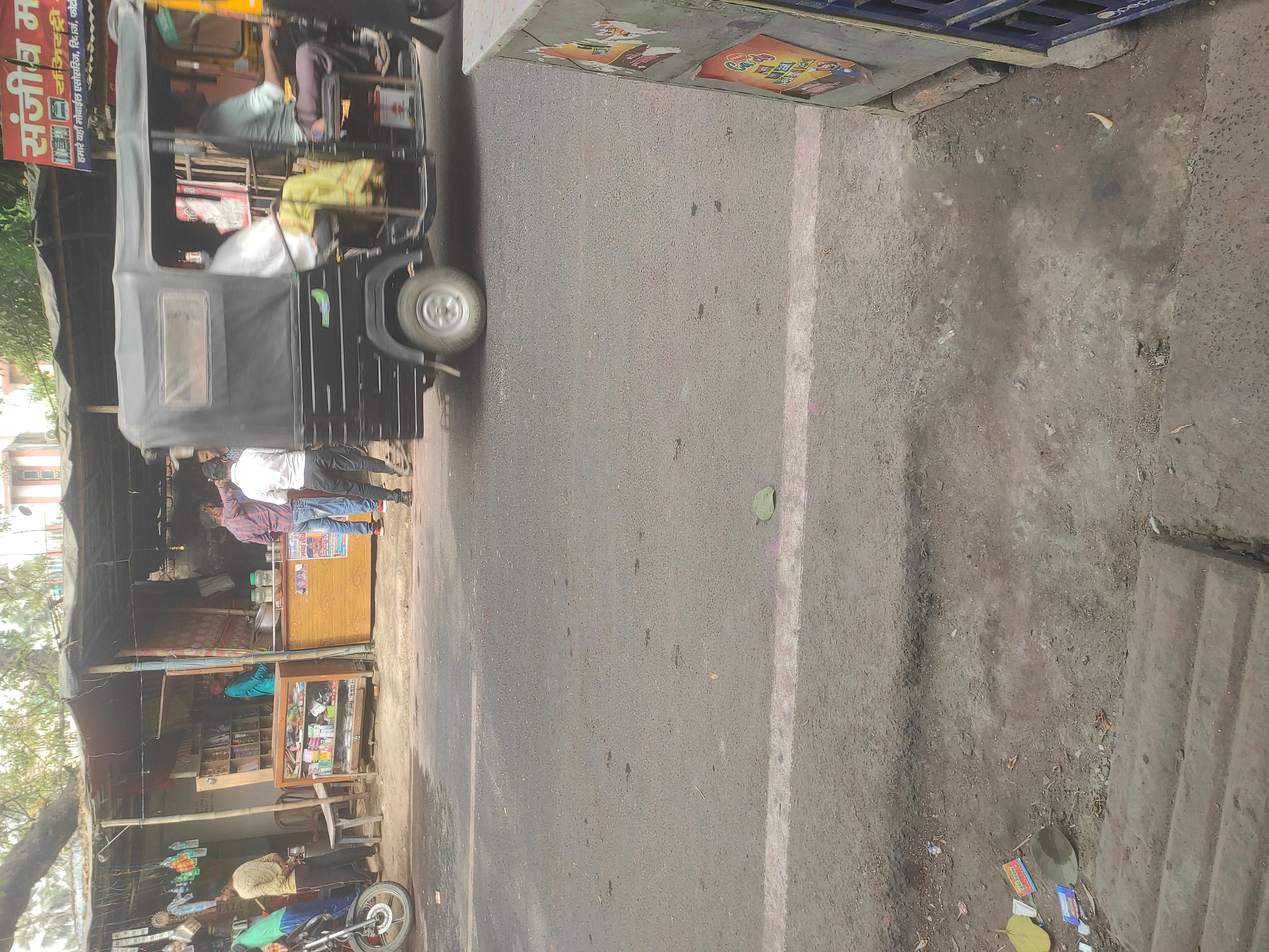Auto: (643, 73, 1269, 363)
